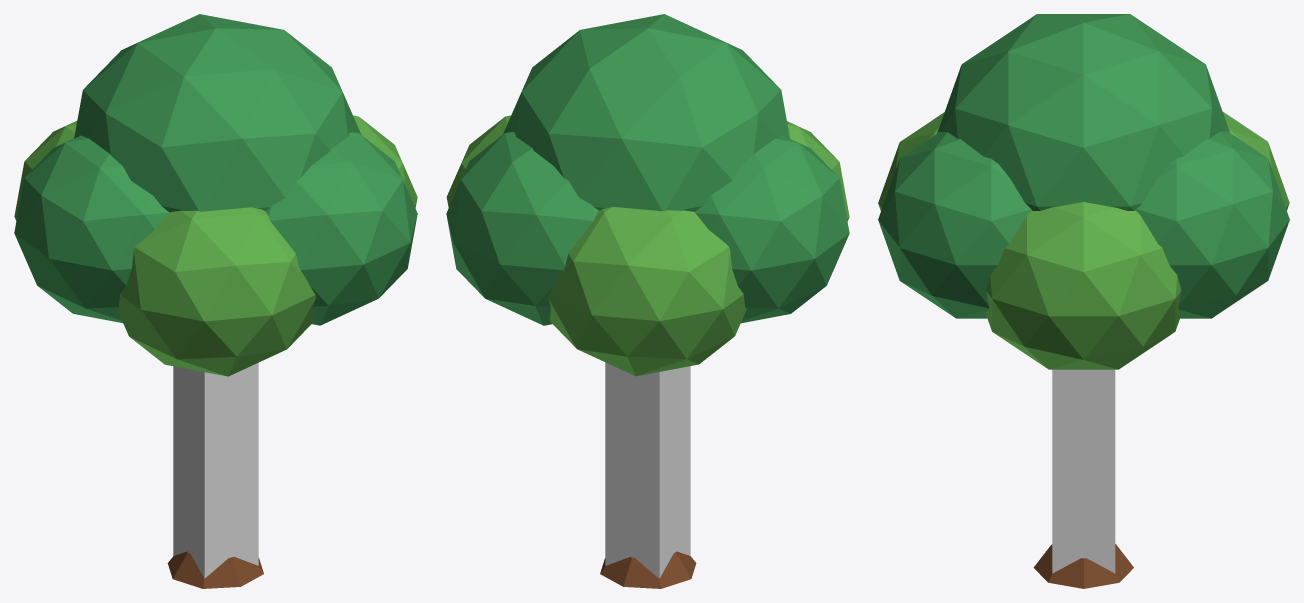
The model's file is prop_tree_a.glb.
3 views of the same model, side by side, from view 1: azimuth 30°, elevation 25°; view 2: azimuth 150°, elevation 25°; view 3: azimuth 270°, elevation 25° (orthographic).
Parts seen in each view (by area): view 1: prop_tree_a, COL_prop_tree_a_1; view 2: prop_tree_a, COL_prop_tree_a_1; view 3: prop_tree_a, COL_prop_tree_a_1.
Boxes of the visible parts, x1=… form: prop_tree_a: x1=14, y1=14, x2=417, y2=588; COL_prop_tree_a_1: x1=173, y1=362, x2=258, y2=578; prop_tree_a: x1=446, y1=14, x2=849, y2=588; COL_prop_tree_a_1: x1=605, y1=362, x2=690, y2=578; prop_tree_a: x1=878, y1=14, x2=1289, y2=588; COL_prop_tree_a_1: x1=1052, y1=369, x2=1115, y2=573.
Bounding box in the file's own units: 3.41 × 4.78 × 3.27.
